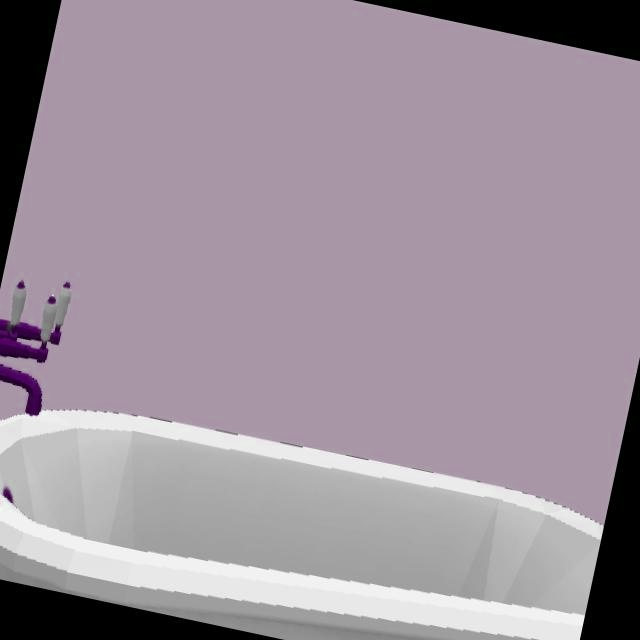bathtube: (0, 409, 603, 640)
